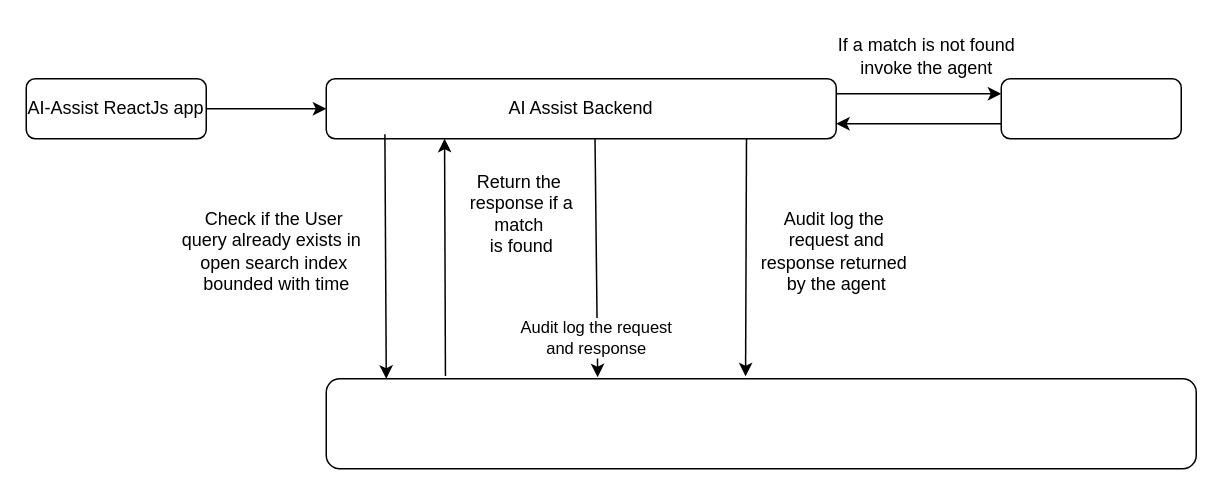
Image size: 1223x495. Some labels were removed from this diagram. The shapes that lost their labels are listed below. From the top down, each one's centre as x and y in pixels, then its label:
At [1090,108]: "AWS bedrock agent".
At [760,423]: "Open search index".
